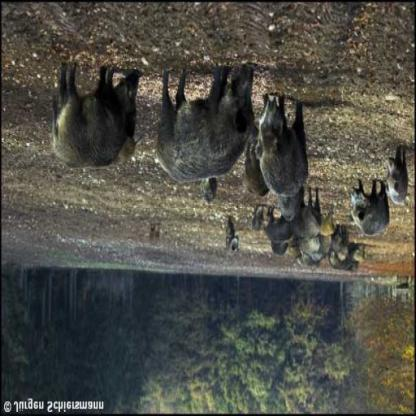boar: (150, 64, 256, 191), (34, 55, 145, 175), (258, 90, 314, 201), (337, 187, 387, 247), (379, 139, 414, 207)
